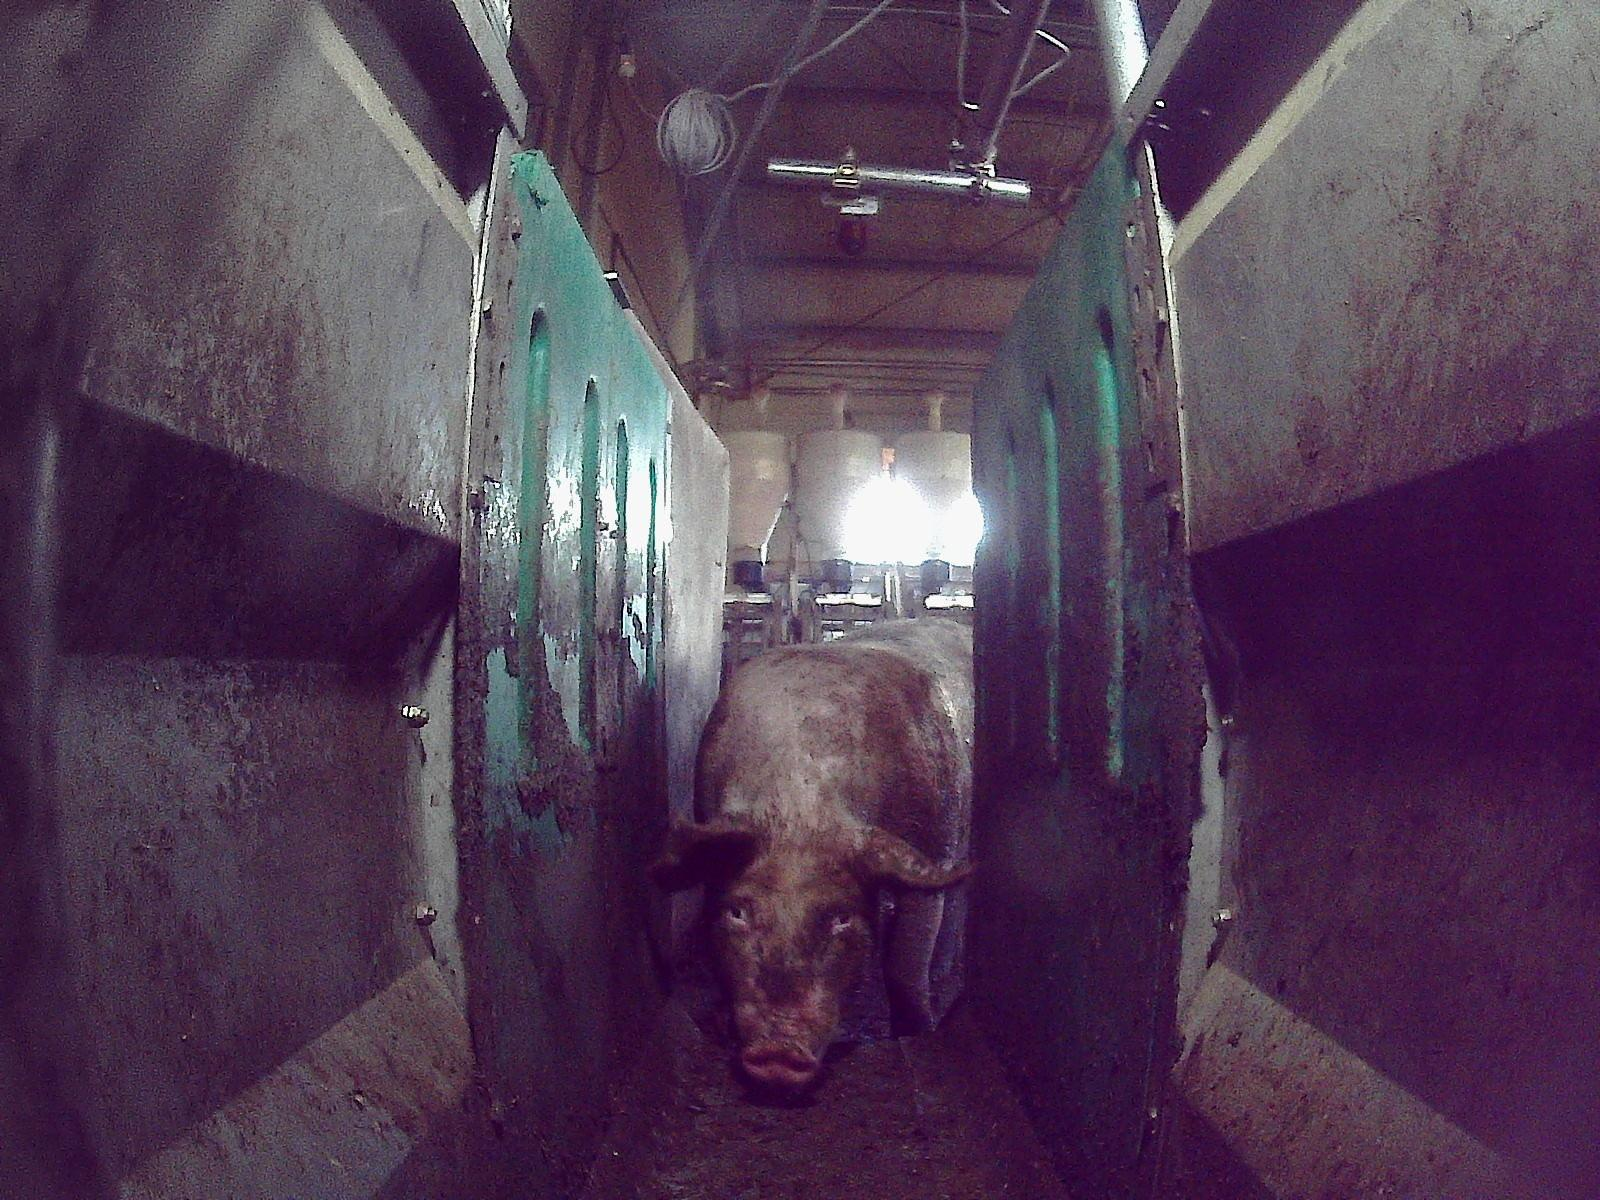Face: (707, 835, 880, 1082)
